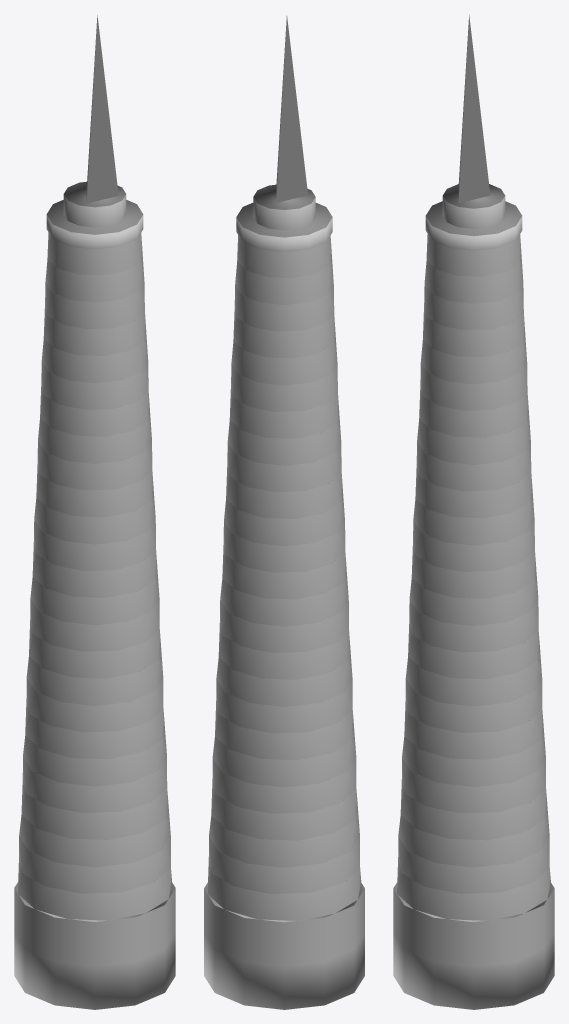
The model's file is Skycraper002.fbx.
The picture shows the model from 3 angles, left to right: view 1: azimuth 30°, elevation 25°; view 2: azimuth 150°, elevation 25°; view 3: azimuth 270°, elevation 25°; orthographic projection.
Parts seen in each view (by area): view 1: Main, geo1.001, Cone, geo1.002; view 2: Main, geo1.001, Cone, geo1.002; view 3: Main, geo1.001, Cone, geo1.002.
Part boxes in pixels (x1,y1,x2,y2): Main: (18,232,171,920); geo1.001: (14,200,175,1009); Cone: (86,15,118,203); geo1.002: (63,181,126,227); Main: (207,235,361,920); geo1.001: (204,203,364,1009); Cone: (276,15,307,202); geo1.002: (253,184,315,230); Main: (397,234,550,920); geo1.001: (393,201,554,1009); Cone: (458,14,490,202); geo1.002: (442,184,505,228).
Bounding box in the file's own units: 120 × 790 × 120.
Materials: 3 (1 with a texture image).
